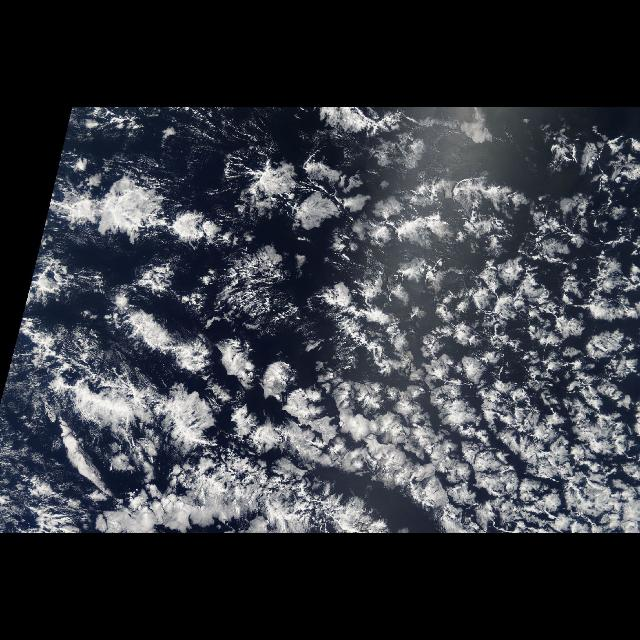Fish: (81, 306, 452, 530)
Flower: (46, 129, 636, 531)
